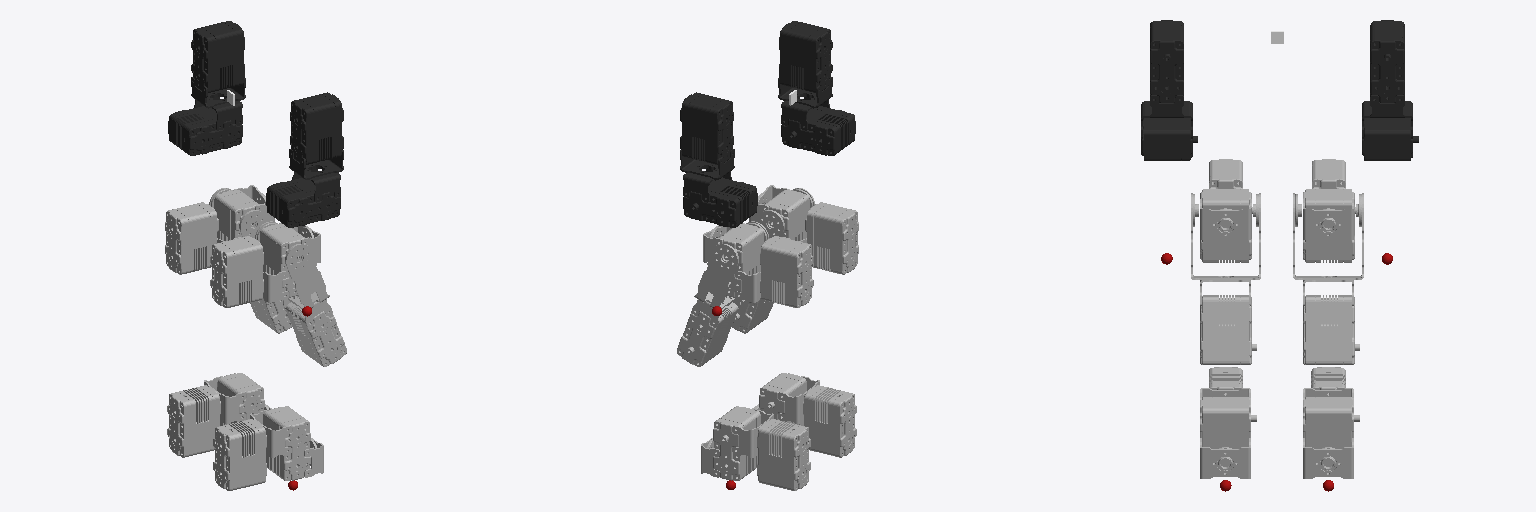
--- Facts derived from the render (not from the file) ---
The picture shows the robot from 3 angles, left to right: view 1: azimuth 30°, elevation 25°; view 2: azimuth 150°, elevation 25°; view 3: azimuth 270°, elevation 25°; orthographic projection.
Robot: lss_humanoid — 25 links, 24 joints (18 revolute, 6 fixed); root link base_link; default pose: all joints at 0.
Links seen in each view (by area): view 1: RHumerus, LHumerus, RFootPitch, RHipRoll, LFootPitch, LHipRoll, RHipPitch, LHipPitch; view 2: LHumerus, RHumerus, LFootPitch, LHipRoll, RFootPitch, RHipRoll, LHipPitch, RHipPitch; view 3: LHumerus, RHumerus, LFootPitch, RFootPitch, RHipRoll, LHipRoll, LHipPitch, RHipPitch.
Link boxes in pixels (left/top/right/bottom): RHumerus: left=266, top=92, right=343, bottom=227; LHumerus: left=168, top=21, right=245, bottom=155; RFootPitch: left=213, top=406, right=323, bottom=490; RHipRoll: left=210, top=223, right=320, bottom=307; LFootPitch: left=167, top=373, right=271, bottom=457; LHipRoll: left=165, top=185, right=274, bottom=274; RHipPitch: left=255, top=221, right=346, bottom=366; LHipPitch: left=209, top=188, right=291, bottom=333; LHumerus: left=680, top=92, right=757, bottom=227; RHumerus: left=778, top=21, right=855, bottom=155; LFootPitch: left=701, top=406, right=810, bottom=490; LHipRoll: left=703, top=223, right=813, bottom=307; RFootPitch: left=752, top=373, right=856, bottom=457; RHipRoll: left=749, top=185, right=858, bottom=274; LHipPitch: left=677, top=221, right=768, bottom=366; RHipPitch: left=732, top=188, right=814, bottom=333; LHumerus: left=1362, top=20, right=1418, bottom=160; RHumerus: left=1141, top=20, right=1197, bottom=160; LFootPitch: left=1303, top=367, right=1359, bottom=478; RFootPitch: left=1200, top=367, right=1256, bottom=478; RHipRoll: left=1200, top=159, right=1252, bottom=262; LHipRoll: left=1303, top=159, right=1355, bottom=262; LHipPitch: left=1293, top=193, right=1363, bottom=364; RHipPitch: left=1191, top=193, right=1260, bottom=364.
Size in the robot's own frame: 0.1148 by 0.2054 by 0.3748 metres.
12 mesh visuals loaded from 13 distinct referenced files (2 binary STL, 4 Collada DAE); not drawn: 12 (reference not matched to a file when rendering).

robot.urdf — lss_humanoid:
<?xml version="1.0" encoding="utf-8"?>
<!-- This URDF was automatically created by SolidWorks to URDF Exporter! Originally created by Stephen Brawner ([email redacted]) 
     Commit Version: 1.5.1-0-g916b5db  Build Version: 1.5.7152.31018
     For more information, please see http://wiki.ros.org/sw_urdf_exporter -->
<robot
  name="lss_humanoid">
  <material name="black">
    <color rgba="0.0 0.0 0.0 1.0"/>
  </material>
  <material name="dark">
    <color rgba="0.3 0.3 0.3 1.0"/>
  </material>
  <material name="light_black">
    <color rgba="0.4 0.4 0.4 1.0"/>
  </material>
  <material name="blue">
    <color rgba="0.0 0.0 0.8 1.0"/>
  </material>
  <material name="green">
    <color rgba="0.0 0.8 0.0 1.0"/>
  </material>
  <material name="grey">
    <color rgba="0.5 0.5 0.5 1.0"/>
  </material>
  <material name="orange">
    <color rgba="1.0 0.4235294117647059 0.0392156862745098 1.0"/>
  </material>
  <material name="brown">
    <color rgba="0.8705882352941177 0.8117647058823529 0.7647058823529411 1.0"/>
  </material>
  <material name="red">
    <color rgba="0.8 0.0 0.0 1.0"/>
  </material>
  <material name="white">
    <color rgba="1.0 1.0 1.0 1.0"/>
  </material>
  <material name="acrylic">
    <color rgba="0.9 0.9 1.0 0.6"/>
  </material>

  <gazebo reference="world">
    <static>true</static>
  </gazebo>
  <!-- Generic simulatalos_gazebo plugins -->
  <gazebo>
    <plugin filename="libgazebo_ros_control.so" name="gazebo_ros_control">
      <ns/>
      <robotSimType>pal_hardware_gazebo/PalHardwareGazebo</robotSimType>
      <robotNamespace/>
      <controlPeriod>0.001</controlPeriod>
    </plugin>
  </gazebo>
  <gazebo>
    <plugin filename="libgazebo_world_odometry.so" name="gazebo_ros_odometry">
      <frameName>base_link</frameName>
      <topicName>floating_base_pose_simulated</topicName>
    </plugin>
  </gazebo>
  <gazebo>
    <plugin filename="libgazebo_ros_force.so" name="gazebo_ros_force">
      <bodyName>base_link</bodyName>
      <topicName>wrench</topicName>
    </plugin>
  </gazebo>
  <gazebo reference="imu_link">
    <!-- this is expected to be reparented to pelvis with appropriate offset
         when imu_link is reduced by fixed joint reduction -->
    <!-- todo: this is working with gazebo 1.4, need to write a unit test -->
    <sensor name="imu_sensor" type="imu">
      <always_on>1</always_on>
      <update_rate>1000.0</update_rate>
      <imu>
        <noise>
          <type>gaussian</type>
          <!-- Noise parameters from Boston Dynamics
               (http://gazebosim.org/wiki/Sensor_noise):
                 rates (rad/s): mean=0, stddev=2e-4
                 accels (m/s/s): mean=0, stddev=1.7e-2
                 rate bias (rad/s): 5e-6 - 1e-5
                 accel bias (m/s/s): 1e-1
               Experimentally, simulation provide rates with noise of
               about 1e-3 rad/s and accels with noise of about 1e-1 m/s/s.
               So we don't expect to see the noise unless number of inner iterations
               are increased.

               We will add bias.  In this model, bias is sampled once for rates
               and once for accels at startup; the sign (negative or positive)
               of each bias is then switched with equal probability.  Thereafter,
               the biases are fixed additive offsets.  We choose
               bias means and stddevs to produce biases close to the provided
               data. -->
          <!--
          <rate>
            <mean>0.0</mean>
            <stddev>2e-4</stddev>
            <bias_mean>0.0000075</bias_mean>
            <bias_stddev>0.0000008</bias_stddev>
          </rate>
          <accel>
            <mean>0.0</mean>
            <stddev>1.7e-2</stddev>
            <bias_mean>0.1</bias_mean>
            <bias_stddev>0.001</bias_stddev>
          </accel>
          -->
          <rate>
            <mean>0.0</mean>
            <stddev>0.0</stddev>
            <bias_mean>0.000000</bias_mean>
            <bias_stddev>0.0000008</bias_stddev>
          </rate>
          <accel>
            <mean>0.0</mean>
            <stddev>0.0</stddev>
            <bias_mean>0.0</bias_mean>
            <bias_stddev>0.000</bias_stddev>
          </accel>
        </noise>
      </imu>
    </sensor>
  </gazebo>




<link
    name="base_link">
    <inertial>
      <origin
        xyz="-0.0253999999999986 2.13782985104544E-16 0.0359319126806752"
        rpy="0 0 0" />
      <mass
        value="0.355132365146695" />
      <inertia
        ixx="0.000832875964458555"
        ixy="3.33044333790096E-11"
        ixz="-1.16589850024818E-17"
        iyy="0.000564479251392148"
        iyz="1.60936259978317E-19"
        izz="0.000385496934446234" />
    </inertial>
    <visual>
      <origin
        xyz="0 0 0"
        rpy="0 0 0" />
      <geometry>
        <mesh
          filename="package://lss_humanoid/meshes/Torso.dae" />
      </geometry>
      <material
        name="">
        <color
          rgba="0.752941176470588 0.752941176470588 0.752941176470588 1" />
      </material>
    </visual>
    <collision>
      <origin
        xyz="0 0 0"
        rpy="0 0 0" />
      <geometry>
        <mesh
          filename="package://lss_humanoid/meshes/collision/Torso.STL" />
      </geometry>
    </collision>
  </link>

  <joint name="imu_link_joint" type="fixed">
    <parent link="base_link"/>
    <child link="imu_link"/>
    <origin
        xyz="-0.06 0 0.078"
        rpy="1.5708 0 1.5708"
    />
  </joint>
  <link name="imu_link">
    <visual>
      <origin rpy="0 0 0" xyz="0 0 0"/>
      <geometry>
        <box size="0.01 0.01 0.002"/>
      </geometry>
      <material name="white" />
    </visual>
    <inertial>
      <origin xyz="0 0 0"/>
      <mass value="0.04"/>
      <inertia ixx="3.467e-7" ixy="0.0" ixz="0.0" iyy="3.467e-7" iyz="0.0" izz="6.667e-7"/>
    </inertial>
  </link>

  <link
    name="Backpack">
    <inertial>
      <origin
        xyz="-0.0170427491100452 0.000328179885731391 0.01060821510892"
        rpy="0 0 0" />
      <mass
        value="0.0552011445334333" />
      <inertia
        ixx="4.62358741760883E-05"
        ixy="-2.88958813740679E-09"
        ixz="-8.28199354084925E-08"
        iyy="3.83480634869723E-05"
        iyz="-1.41570236441507E-07"
        izz="2.33835846232832E-05" />
    </inertial>
    <visual>
      <origin
        xyz="0 0 0"
        rpy="0 0 0" />
      <geometry>
        <mesh
          filename="package://lss_humanoid/meshes/Backpack.dae" />
      </geometry>
      <material
        name="">
        <color
          rgba="0.752941176470588 0.752941176470588 0.752941176470588 1" />
      </material>
    </visual>
    <collision>
      <origin
        xyz="0 0 0"
        rpy="0 0 0" />
      <geometry>
        <mesh
          filename="package://lss_humanoid/meshes/collision/Backpack.STL" />
      </geometry>
    </collision>
  </link>
  <joint
    name="BP"
    type="fixed">
    <origin
      xyz="-0.0523 0 0.0340500000000005"
      rpy="0 0 0" />
    <parent
      link="base_link" />
    <child
      link="Backpack" />
    <axis
      xyz="0 0 0" />
  </joint>


  <link
    name="LShoulder">
    <inertial>
      <origin
        xyz="0.000746218792416618 0.0150388262902873 -6.80011602582908E-16"
        rpy="0 0 0" />
      <mass
        value="0.017081530329231" />
      <inertia
        ixx="3.60326798545117E-06"
        ixy="-1.51189149729593E-07"
        ixz="-9.53045607523485E-17"
        iyy="8.06624443903878E-06"
        iyz="-9.57126791604929E-19"
        izz="1.01138323057886E-05" />
    </inertial>
    <visual>
      <origin
        xyz="0 0 0"
        rpy="0 0 0" />
      <geometry>
        <mesh
          filename="package://lss_humanoid/meshes/LShoulder.STL" />
      </geometry>
      <material
        name="">
        <color
          rgba="0.223529411764706 0.223529411764706 0.223529411764706 1" />
      </material>
    </visual>
    <collision>
      <origin
        xyz="0 0 0"
        rpy="0 0 0" />
      <geometry>
        <mesh
          filename="package://lss_humanoid/meshes/collision/LShoulder.STL" />
      </geometry>
    </collision>
  </link>
  <joint
    name="J27"
    type="revolute">
    <origin
      xyz="-0.0253999999999997 0.0547200000000002 0.0871500000000003"
      rpy="0 0 0" />
    <parent
      link="base_link" />
    <child
      link="LShoulder" />
    <axis
      xyz="0 1 0" />
    <limit
      lower="0"
      upper="0"
      effort="0"
      velocity="0" />
    <dynamics
      friction="9E-05" />
    <safety_controller
      soft_upper="3.14"
      soft_lower="-3.14"
      k_velocity="0" />
  </joint>
  <link
    name="LHumerus">
    <inertial>
      <origin
        xyz="-0.0286396595999023 3.72729039023467E-06 -0.0447778879789885"
        rpy="0 0 0" />
      <mass
        value="0.148517555792269" />
      <inertia
        ixx="0.000171303602077559"
        ixy="-9.0571913736578E-08"
        ixz="-2.65884022364843E-05"
        iyy="0.000187603674615906"
        iyz="1.73761555283781E-08"
        izz="4.23772443923829E-05" />
    </inertial>
    <visual>
      <origin
        xyz="0 0 0"
        rpy="0 0 0" />
      <geometry>
        <mesh
          filename="package://lss_humanoid/meshes/LHumerus.dae" />
      </geometry>
      <material
        name="">
        <color
          rgba="0.223529411764706 0.223529411764706 0.223529411764706 1" />
      </material>
    </visual>
    <collision>
      <origin
        xyz="0 0 0"
        rpy="0 0 0" />
      <geometry>
        <mesh
          filename="package://lss_humanoid/meshes/collision/LHumerus.STL" />
      </geometry>
    </collision>
  </link>
  <joint
    name="J28"
    type="revolute">
    <origin
      xyz="0.0231700999999997 0.0268999999999996 0"
      rpy="0 0 0" />
    <parent
      link="LShoulder" />
    <child
      link="LHumerus" />
    <axis
      xyz="-1 0 0" />
    <limit
      lower="0"
      upper="0"
      effort="0"
      velocity="0" />
    <dynamics
      friction="9E-05" />
    <safety_controller
      soft_upper="3.14"
      soft_lower="-3.14"
      k_velocity="0" />
  </joint>
  <link
    name="LRadius">
    <inertial>
      <origin
        xyz="-0.0163186126901819 -0.0227886840255948 -0.0408473173393355"
        rpy="0 0 0" />
      <mass
        value="0.0398910572348323" />
      <inertia
        ixx="5.48499757506847E-05"
        ixy="-2.02591239859563E-07"
        ixz="-6.59746659681478E-06"
        iyy="4.92537670421414E-05"
        iyz="-5.07108589855452E-07"
        izz="1.51066047591689E-05" />
    </inertial>
    <visual>
      <origin
        xyz="0 0 0"
        rpy="0 0 0" />
      <geometry>
        <mesh
          filename="package://lss_humanoid/meshes/LRadius.STL" />
      </geometry>
      <material
        name="">
        <color
          rgba="0.180392156862745 0.180392156862745 0.180392156862745 1" />
      </material>
    </visual>
    <collision>
      <origin
        xyz="0 0 0"
        rpy="0 0 0" />
      <geometry>
        <mesh
          filename="package://lss_humanoid/meshes/collision/LRadius.STL" />
      </geometry>
    </collision>
  </link>
  <joint
    name="J29"
    type="revolute">
    <origin
      xyz="-0.0229700000000004 0.0229699999999999 -0.0762000000000001"
      rpy="0 0 0" />
    <parent
      link="LHumerus" />
    <child
      link="LRadius" />
    <axis
      xyz="0 1 0" />
    <limit
      lower="0"
      upper="0"
      effort="0"
      velocity="0" />
    <dynamics
      friction="9E-05" />
    <safety_controller
      soft_upper="3.14"
      soft_lower="-3.14"
      k_velocity="0" />
  </joint>
  <link
    name="LWrist">
    <inertial>
      <origin
        xyz="-2.77555756156289E-17 0 -4.16333634234434E-17"
        rpy="0 0 0" />
      <mass
        value="0.000331321693867029" />
      <inertia
        ixx="2.44202838007185E-09"
        ixy="-1.46936793852786E-39"
        ixz="0"
        iyy="2.44202838007185E-09"
        iyz="-1.46936793852786E-39"
        izz="2.44202838007185E-09" />
    </inertial>
    <visual>
      <origin
        xyz="0 0 0"
        rpy="0 0 0" />
      <geometry>
        <mesh
          filename="package://lss_humanoid/meshes/Wrist.STL" />
      </geometry>
      <material
        name="">
        <color
          rgba="0.694117647058824 0.0980392156862745 0.0980392156862745 1" />
      </material>
    </visual>
    <collision>
      <origin
        xyz="0 0 0"
        rpy="0 0 0" />
      <geometry>
        <mesh
          filename="package://lss_humanoid/meshes/collision/Wrist.STL" />
      </geometry>
    </collision>
  </link>
  <joint
    name="LWristJoint"
    type="fixed">
    <origin
      xyz="-0.00914452409713376 -0.0230999 -0.101684168310308"
      rpy="0 0.77816112092486 0" />
    <parent
      link="LRadius" />
    <child
      link="LWrist" />
    <axis
      xyz="0 0 0" />
  </joint>


  <link
    name="LHipYaw">
    <inertial>
      <origin
        xyz="-0.00140553586679567 1.0547118733939E-15 -0.0150388262902854"
        rpy="0 0 0" />
      <mass
        value="0.017081530329231" />
      <inertia
        ixx="3.60326798545026E-06"
        ixy="-9.32394958494495E-17"
        ixz="-2.84771403204168E-07"
        iyy="1.06613780151401E-05"
        iyz="8.83408686287401E-19"
        izz="8.61379014839123E-06" />
    </inertial>
    <visual>
      <origin
        xyz="0 0 0"
        rpy="0 0 0" />
      <geometry>
        <mesh
          filename="package://lss_humanoid/meshes/LHipYaw.STL" />
      </geometry>
      <material
        name="">
        <color
          rgba="0.180392156862745 0.180392156862745 0.180392156862745 1" />
      </material>
    </visual>
    <collision>
      <origin
        xyz="0 0 0"
        rpy="0 0 0" />
      <geometry>
        <mesh
          filename="package://lss_humanoid/meshes/collision/LHipYaw.STL" />
      </geometry>
    </collision>
  </link>
  <joint
    name="J26"
    type="revolute">
    <origin
      xyz="-0.0254 0.0381000000000002 -0.0230574999999997"
      rpy="0 0 0" />
    <parent
      link="base_link" />
    <child
      link="LHipYaw" />
    <axis
      xyz="0 0 1" />
    <limit
      lower="0"
      upper="0"
      effort="0"
      velocity="0" />
    <dynamics
      friction="0.0009" />
    <safety_controller
      soft_upper="3.14"
      soft_lower="-3.14"
      k_velocity="0" />
  </joint>
  <link
    name="LHipRoll">
    <inertial>
      <origin
        xyz="0.0015643469642346 -9.4489704024002E-05 -0.0121804734613783"
        rpy="0 0 0" />
      <mass
        value="0.150600151982644" />
      <inertia
        ixx="4.54842403807621E-05"
        ixy="2.8199029992497E-07"
        ixz="-4.18228746201763E-06"
        iyy="0.000124412298932345"
        iyz="9.22435545928477E-08"
        izz="0.000107266776748049" />
    </inertial>
    <visual>
      <origin
        xyz="0 0 0"
        rpy="0 0 0" />
      <geometry>
        <mesh
          filename="package://lss_humanoid/meshes/LHipRoll.dae" />
      </geometry>
      <material
        name="">
        <color
          rgba="0.752941176470588 0.752941176470588 0.752941176470588 1" />
      </material>
    </visual>
    <collision>
      <origin
        xyz="0 0 0"
        rpy="0 0 0" />
      <geometry>
        <mesh
          filename="package://lss_humanoid/meshes/collision/LHipRoll.STL" />
      </geometry>
    </collision>
  </link>
  <joint
    name="J25"
    type="revolute">
    <origin
      xyz="-0.0275998999999983 0 -0.0268999999999996"
      rpy="0 0 0" />
    <parent
      link="LHipYaw" />
    <child
      link="LHipRoll" />
    <axis
      xyz="-1 0 0" />
    <limit
      lower="0"
      upper="0"
      effort="0"
      velocity="0" />
    <dynamics
      friction="9E-05" />
    <safety_controller
      soft_upper="3.14"
      soft_lower="-3.14"
      k_velocity="0" />
  </joint>
  <link
    name="LHipPitch">
    <inertial>
      <origin
        xyz="0.0255851859797108 0.0228146907775861 -0.0681478159345384"
        rpy="0 0 0" />
      <mass
        value="0.0939356992938116" />
      <inertia
        ixx="0.000105242343298208"
        ixy="-2.05783786718285E-07"
        ixz="3.0288628108755E-05"
        iyy="0.000101607381083384"
        iyz="5.4812380552749E-07"
        izz="3.59380441231357E-05" />
    </inertial>
    <visual>
      <origin
        xyz="0 0 0"
        rpy="0 0 0" />
      <geometry>
        <mesh
          filename="package://lss_humanoid/meshes/LHipPitch.dae" />
      </geometry>
      <material
        name="">
        <color
          rgba="0.752941176470588 0.752941176470588 0.752941176470588 1" />
      </material>
    </visual>
    <collision>
      <origin
        xyz="0 0 0"
        rpy="0 0 0" />
      <geometry>
        <mesh
          filename="package://lss_humanoid/meshes/collision/LHipPitch.STL" />
      </geometry>
    </collision>
  </link>
  <joint
    name="J24"
    type="revolute">
    <origin
      xyz="0.021379999999997 -0.023169999999998 0"
      rpy="0 0 0" />
    <parent
      link="LHipRoll" />
    <child
      link="LHipPitch" />
    <axis
      xyz="0 1 0" />
    <limit
      lower="0"
      upper="0"
      effort="0"
      velocity="0" />
    <dynamics
      friction="9E-05" />
    <safety_controller
      soft_upper="3.14"
      soft_lower="-3.14"
      k_velocity="0" />
  </joint>
  <link
    name="LKnee">
    <inertial>
      <origin
        xyz="-0.0212403418728807 0.0224343490617096 -0.0321915821405833"
        rpy="0 0 0" />
      <mass
        value="0.0373066388636915" />
      <inertia
        ixx="3.70320673266135E-05"
        ixy="-1.75016683128231E-07"
        ixz="-1.46783779745865E-05"
        iyy="3.7175997995424E-05"
        iyz="9.14956634172046E-08"
        izz="3.97968193655247E-05" />
    </inertial>
    <visual>
      <origin
        xyz="0 0 0"
        rpy="0 0 0" />
      <geometry>
        <mesh
          filename="package://lss_humanoid/meshes/LKnee.STL" />
      </geometry>
      <material
        name="">
        <color
          rgba="0.180392156862745 0.180392156862745 0.180392156862745 1" />
      </material>
    </visual>
    <collision>
      <origin
        xyz="0 0 0"
        rpy="0 0 0" />
      <geometry>
        <mesh
          filename="package://lss_humanoid/meshes/collision/LKnee.STL" />
      </geometry>
    </collision>
  </link>
  <joint
    name="J23"
    type="revolute">
    <origin
      xyz="0.03571055264156 -7.00999999968446E-05 -0.0951173823758538"
      rpy="0 -0.359153443220051 0" />
    <parent
      link="LHipPitch" />
    <child
      link="LKnee" />
    <axis
      xyz="0 1 0" />
    <limit
      lower="0"
      upper="0"
      effort="0"
      velocity="0" />
    <dynamics
      friction="9E-05" />
    <safety_controller
      soft_upper="3.14"
      soft_lower="-3.14"
      k_velocity="0" />
  </joint>
  <link
    name="LFootPitch">
    <inertial>
      <origin
        xyz="-0.0198156530357638 0.0230649413883882 -0.0128756238042894"
        rpy="0 0 0" />
      <mass
        value="0.150600151982644" />
      <inertia
        ixx="4.55202440974643E-05"
        ixy="3.47338553480333E-07"
        ixz="3.15598851556928E-06"
        iyy="0.000124448302022704"
        iyz="8.22067493012033E-08"
        izz="0.000107266777374408" />
    </inertial>
    <visual>
      <origin
        xyz="0 0 0"
        rpy="0 0 0" />
      <geometry>
        <mesh
          filename="package://lss_humanoid/meshes/LFootPitch.dae" />
      </geometry>
      <material
        name="">
        <color
          rgba="0.752941176470588 0.752941176470588 0.752941176470588 1" />
      </material>
    </visual>
    <collision>
      <origin
        xyz="0 0 0"
        rpy="0 0 0" />
      <geometry>
        <mesh
          filename="package://lss_humanoid/meshes/collision/LFootPitch.STL" />
      </geometry>
    </collision>
  </link>
  <joint
    name="J22"
    type="revolute">
    <origin
      xyz="-0.0565781810940433 0 -0.0570132390247182"
      rpy="0 0.359153443220065 0" />
    <parent
      link="LKnee" />
    <child
      link="LFootPitch" />
    <axis
      xyz="0 1 0" />
    <limit
      lower="0"
      upper="0"
      effort="0"
      velocity="0" />
    <dynamics
      friction="9E-05" />
    <safety_controller
      soft_upper="3.14"
      soft_lower="-3.14"
      k_velocity="0" />
  </joint>
  <link
    name="LFootRoll">
    <inertial>
      <origin
        xyz="0.0212117311316932 -8.43450072622598E-06 -0.0207257901081166"
        rpy="0 0 0" />
      <mass
        value="0.0486488335202237" />
      <inertia
        ixx="2.03946809529114E-05"
        ixy="-3.93611367093126E-10"
        ixz="-9.6720704817021E-07"
        iyy="4.93779735286004E-05"
        iyz="4.27085981976025E-09"
        izz="5.98725994039234E-05" />
    </inertial>
    <visual>
      <origin
        xyz="0 0 0"
        rpy="0 0 0" />
      <geometry>
        <mesh
          filename="package://lss_humanoid/meshes/LFootRoll.STL" />
      </geometry>
      <material
        name="">
        <color
          rgba="0.180392156862745 0.180392156862745 0.180392156862745 1" />
      </material>
    </visual>
    <collision>
      <origin
        xyz="0 0 0"
        rpy="0 0 0" />
      <geometry>
        <mesh
          filename="package://lss_humanoid/meshes/collision/LFootRoll.STL" />
      </geometry>
    </collision>
  </link>
  <joint
    name="J21"
    type="revolute">
    <origin
      xyz="-0.02138 0.02317 -0.0254"
      rpy="0 0 0" />
    <parent
      link="LFootPitch" />
    <child
      link="LFootRoll" />
    <axis
      xyz="-1 0 0" />
    <limit
      lower="0"
      upper="0"
      effort="0"
      velocity="0" />
    <dynamics
      friction="9E-05" />
    <safety_controller
      soft_upper="3.14"
      soft_lower="-3.14"
      k_velocity="0" />
  </joint>
  <link
    name="l_sole">
    <inertial>
      <origin
        xyz="0 0 -5.55111512312578E-17"
        rpy="0 0 0" />
      <mass
        value="0.000331321693867029" />
      <inertia
        ixx="2.44202838007185E-09"
        ixy="3.67341984631965E-40"
        ixz="-2.31798496307566E-38"
        iyy="2.44202838007185E-09"
        iyz="1.46936793852786E-39"
        izz="2.44202838007185E-09" />
    </inertial>
    <visual>
      <origin
        xyz="0 0 0"
        rpy="0 0 0" />
      <geometry>
        <mesh
          filename="package://lss_humanoid/meshes/LSole.STL" />
      </geometry>
      <material
        name="">
        <color
          rgba="0.694117647058824 0.0980392156862745 0.0980392156862745 1" />
      </material>
    </visual>
    <collision>
      <origin
        xyz="0 0 0"
        rpy="0 0 0" />
      <geometry>
        <mesh
          filename="package://lss_humanoid/meshes/collision/LSole.STL" />
      </geometry>
    </collision>
  </link>
  <joint
    name="LSoleJoint"
    type="fixed">
    <origin
      xyz="0.0275999000000001 -1.09569033354961E-05 -0.0269239977705071"
      rpy="0 0 0" />
    <parent
      link="LFootRoll" />
    <child
      link="l_sole" />
    <axis
      xyz="0 1 0" />
  </joint>




  <link
    name="RShoulder">
    <inertial>
      <origin
        xyz="0.000746218792416618 0.0150388262902873 -6.80011602582908E-16"
        rpy="0 0 0" />
      <mass
        value="0.017081530329231" />
      <inertia
        ixx="3.60326798545117E-06"
        ixy="-1.51189149729593E-07"
        ixz="-9.53045607523485E-17"
        iyy="8.06624443903878E-06"
        iyz="-9.57126791604929E-19"
        izz="1.01138323057886E-05" />
    </inertial>
    <visual>
      <origin
        xyz="0 0 0"
        rpy="0 0 0" />
      <geometry>
        <mesh
          filename="package://lss_humanoid/meshes/LShoulder.STL" />
      </geometry>
      <material
        name="">
        <color
          rgba="0.223529411764706 0.223529411764706 0.223529411764706 1" />
      </material>
    </visual>
    <collision>
      <origin
        xyz="0 0 0"
        rpy="0 0 0" />
      <geometry>
        <mesh
          filename="package://lss_humanoid/meshes/collision/LShoulder.STL" />
      </geometry>
    </collision>
  </link>
  <joint
    name="J17"
    type="revolute">
    <origin
      xyz="-0.0253999999999997 -0.0547200000000002 0.0871500000000003"
      rpy="-3.1416 0 0" />
    <parent
      link="base_link" />
    <child
      link="RShoulder" />
    <axis
      xyz="0 -1 0" />
    <limit
      lower="0"
      upper="0"
      effort="0"
      velocity="0" />
    <dynamics
      friction="9E-05" />
    <safety_controller
      soft_upper="3.14"
      soft_lower="-3.14"
      k_velocity="0" />
  </joint>
  <link
    name="RHumerus">
    <inertial>
      <origin
        xyz="-0.0286396595999023 3.72729039023467E-06 -0.0447778879789885"
        rpy="0 0 0" />
      <mass
        value="0.148517555792269" />
      <inertia
        ixx="0.000171303602077559"
        ixy="-9.0571913736578E-08"
        ixz="-2.65884022364843E-05"
        iyy="0.000187603674615906"
        iyz="1.73761555283781E-08"
        izz="4.23772443923829E-05" />
    </inertial>
    <visual>
      <origin
        xyz="0 0 0"
        rpy="0 0 0" />
      <geometry>
        <mesh
          filename="package://lss_humanoid/meshes/LHumerus.dae" />
      </geometry>
      <material
        name="">
        <color
          rgba="0.223529411764706 0.223529411764706 0.223529411764706 1" />
      </material>
    </visual>
    <collision>
      <origin
        xyz="0 0 0"
        rpy="0 0 0" />
      <geometry>
        <mesh
          filename="package://lss_humanoid/meshes/collision/LHumerus.STL" />
      </geometry>
    </collision>
  </link>
  <joint
    name="J18"
    type="revolute">
    <origin
      xyz="0.0231700999999997 0.0268999999999996 0"
      rpy="3.14156 0 0" />
    <parent
      link="RShoulder" />
    <child
      link="RHumerus" />
    <axis
      xyz="1 0 0" />
    <limit
      lower="0"
      upper="0"
      effort="0"
      velocity="0" />
    <dynamics
      friction="9E-05" />
    <safety_controller
      soft_upper="3.14"
      soft_lower="-3.14"
      k_velocity="0" />
  </joint>
  <link
    name="RRadius">
    <inertial>
      <origin
        xyz="-0.0163186126901819 -0.0227886840255948 -0.0408473173393355"
        rpy="0 0 0" />
      <mass
        value="0.0398910572348323" />
      <inertia
        ixx="5.48499757506847E-05"
        ixy="-2.02591239859563E-07"
        ixz="-6.59746659681478E-06"
        iyy="4.92537670421414E-05"
        iyz="-5.07108589855452E-07"
        izz="1.51066047591689E-05" />
    </inertial>
    <visual>
      <origin
        xyz="0 0 0"
        rpy="0 0 0" />
      <geometry>
        <mesh
          filename="package://lss_humanoid/meshes/LRadius.STL" />
      </geometry>
      <material
        name="">
        <color
          rgba="0.180392156862745 0.180392156862745 0.180392156862745 1" />
      </material>
    </visual>
    <collision>
      <origin
        xyz="0 0 0"
        rpy="0 0 0" />
      <geometry>
        <mesh
          filename="package://lss_humanoid/meshes/collision/LRadius.STL" />
      </geometry>
    </collision>
  </link>
  <joint
    name="J19"
    type="revolute">
    <origin
      xyz="-0.0229700000000004 0.0229699999999999 -0.0762000000000001"
      rpy="0 0 0" />
    <parent
      link="RHumerus" />
    <child
      link="RRadius" />
    <axis
      xyz="0 1 0" />
    <limit
      lower="0"
      upper="0"
      effort="0"
      velocity="0" />
    <dynamics
      friction="9E-05" />
    <safety_controller
      soft_upper="3.14"
      soft_lower="-3.14"
      k_velocity="0" />
  </joint>
  <link
    name="RWrist">
    <inertial>
      <origin
        xyz="-2.77555756156289E-17 0 -4.16333634234434E-17"
        rpy="0 0 0" />
      <mass
        value="0.000331321693867029" />
      <inertia
        ixx="2.44202838007185E-09"
        ixy="-1.46936793852786E-39"
        ixz="0"
        iyy="2.44202838007185E-09"
        iyz="-1.46936793852786E-39"
        izz="2.44202838007185E-09" />
    </inertial>
    <visual>
      <origin
        xyz="0 0 0"
        rpy="0 0 0" />
      <geometry>
        <mesh
          filename="package://lss_humanoid/meshes/Wrist.STL" />
      </geometry>
      <material
        name="">
        <color
          rgba="0.694117647058824 0.0980392156862745 0.0980392156862745 1" />
      </material>
    </visual>
    <collision>
      <origin
        xyz="0 0 0"
        rpy="0 0 0" />
      <geometry>
        <mesh
          filename="package://lss_humanoid/meshes/collision/Wrist.STL" />
      </geometry>
    </collision>
  </link>
  <joint
    name="RWristJoint"
    type="fixed">
    <origin
      xyz="-0.00914452409713376 -0.0230999 -0.101684168310308"
      rpy="0 0.77816112092486 0" />
    <parent
      link="RRadius" />
    <child
      link="RWrist" />
    <axis
      xyz="0 0 0" />
  </joint>


  <link
    name="RHipYaw">
    <inertial>
      <origin
        xyz="-0.00140553586679567 1.0547118733939E-15 -0.0150388262902854"
        rpy="0 0 0" />
      <mass
        value="0.017081530329231" />
      <inertia
        ixx="3.60326798545026E-06"
        ixy="-9.32394958494495E-17"
        ixz="-2.84771403204168E-07"
        iyy="1.06613780151401E-05"
        iyz="8.83408686287401E-19"
        izz="8.61379014839123E-06" />
    </inertial>
    <visual>
      <origin
        xyz="0 0 0"
        rpy="0 0 0" />
      <geometry>
        <mesh
          filename="package://lss_humanoid/meshes/LHipYaw.STL" />
      </geometry>
      <material
        name="">
        <color
          rgba="0.180392156862745 0.180392156862745 0.180392156862745 1" />
      </material>
    </visual>
    <collision>
      <origin
        xyz="0 0 0"
        rpy="0 0 0" />
      <geometry>
        <mesh
          filename="package://lss_humanoid/meshes/collision/LHipYaw.STL" />
      </geometry>
    </collision>
  </link>
  <joint
    name="J16"
    type="revolute">
    <origin
      xyz="-0.0254 -0.0381000000000002 -0.0230574999999997"
      rpy="0 0 0" />
    <parent
      link="base_link" />
    <child
      link="RHipYaw" />
    <axis
      xyz="0 0 -1" />
    <limit
      lower="0"
      upper="0"
      effort="0"
      velocity="0" />
    <dynamics
      friction="0.0009" />
    <safety_controller
      soft_upper="3.14"
      soft_lower="-3.14"
      k_velocity="0" />
  </joint>
  <link
    name="RHipRoll">
    <inertial>
      <origin
        xyz="0.0015643469642346 -9.4489704024002E-05 -0.0121804734613783"
        rpy="0 0 0" />
      <mass
        value="0.150600151982644" />
      <inertia
        ixx="4.54842403807621E-05"
        ixy="2.8199029992497E-07"
        ixz="-4.18228746201763E-06"
        iyy="0.000124412298932345"
        iyz="9.22435545928477E-08"
        izz="0.000107266776748049" />
    </inertial>
    <visual>
      <origin
        xyz="0 0 0"
        rpy="0 0 0" />
      <geometry>
        <mesh
          filename="package://lss_humanoid/meshes/LHipRoll.dae" />
      </geometry>
      <material
        name="">
        <color
          rgba="0.752941176470588 0.752941176470588 0.752941176470588 1" />
      </material>
    </visual>
    <collision>
      <origin
        xyz="0 0 0"
        rpy="0 0 0" />
      <geometry>
        <mesh
          filename="package://lss_humanoid/meshes/collision/LHipRoll.STL" />
      </geometry>
    </collision>
  </link>
  <joint
    name="J15"
    type="revolute">
    <origin
      xyz="-0.0275998999999983 0 -0.0268999999999996"
      rpy="0 0 0" />
    <parent
      link="RHipYaw" />
    <child
      link="RHipRoll" />
    <axis
      xyz="-1 0 0" />
    <limit
      lower="0"
      upper="0"
      effort="0"
      velocity="0" />
    <dynamics
      friction="9E-05" />
    <safety_controller
      soft_upper="3.14"
      soft_lower="-3.14"
      k_velocity="0" />
  </joint>
  <link
    name="RHipPitch">
    <inertial>
      <origin
        xyz="0.0255851859797108 0.0228146907775861 -0.0681478159345384"
        rpy="0 0 0" />
      <mass
        value="0.0939356992938116" />
      <inertia
        ixx="0.000105242343298208"
        ixy="-2.05783786718285E-07"
        ixz="3.0288628108755E-05"
        iyy="0.000101607381083384"
        iyz="5.4812380552749E-07"
        izz="3.59380441231357E-05" />
    </inertial>
    <visual>
      <origin
        xyz="0 0 0"
        rpy="0 0 0" />
      <geometry>
        <mesh
          filename="package://lss_humanoid/meshes/LHipPitch.dae" />
      </geometry>
      <material
        name="">
        <color
          rgba="0.752941176470588 0.752941176470588 0.752941176470588 1" />
      </material>
    </visual>
    <collision>
      <origin
        xyz="0 0 0"
        rpy="0 0 0" />
      <geometry>
        <mesh
          filename="package://lss_humanoid/meshes/collision/LHipPitch.STL" />
      </geometry>
    </collision>
  </link>
  <joint
    name="J14"
    type="revolute">
    <origin
      xyz="0.021379999999997 -0.023169999999998 0"
      rpy="0 0 0" />
    <parent
      link="RHipRoll" />
    <child
      link="RHipPitch" />
    <axis
      xyz="0 1 0" />
    <limit
      lower="0"
      upper="0"
      effort="0"
      velocity="0" />
    <dynamics
      friction="9E-05" />
    <safety_controller
      soft_upper="3.14"
      soft_lower="-3.14"
      k_velocity="0" />
  </joint>
  <link
    name="RKnee">
    <inertial>
      <origin
        xyz="-0.0212403418728807 0.0224343490617096 -0.0321915821405833"
        rpy="0 0 0" />
      <mass
        value="0.0373066388636915" />
      <inertia
        ixx="3.70320673266135E-05"
        ixy="-1.75016683128231E-07"
        ixz="-1.46783779745865E-05"
        iyy="3.7175997995424E-05"
        iyz="9.14956634172046E-08"
        izz="3.97968193655247E-05" />
    </inertial>
    <visual>
      <origin
        xyz="0 0 0"
        rpy="0 0 0" />
      <geometry>
        <mesh
          filename="package://lss_humanoid/meshes/LKnee.STL" />
      </geometry>
      <material
        name="">
        <color
          rgba="0.180392156862745 0.180392156862745 0.180392156862745 1" />
      </material>
    </visual>
    <collision>
      <origin
        xyz="0 0 0"
        rpy="0 0 0" />
      <geometry>
        <mesh
          filename="package://lss_humanoid/meshes/collision/LKnee.STL" />
      </geometry>
    </collision>
  </link>
  <joint
    name="J13"
    type="revolute">
    <origin
      xyz="0.03571055264156 -7.00999999968446E-05 -0.0951173823758538"
      rpy="0 -0.359153443220051 0" />
    <parent
      link="RHipPitch" />
    <child
      link="RKnee" />
    <axis
      xyz="0 1 0" />
    <limit
      lower="0"
      upper="0"
      effort="0"
      velocity="0" />
    <dynamics
      friction="9E-05" />
    <safety_controller
      soft_upper="3.14"
      soft_lower="-3.14"
      k_velocity="0" />
  </joint>
  <link
    name="RFootPitch">
    <inertial>
      <origin
        xyz="-0.0198156530357638 0.0230649413883882 -0.0128756238042894"
        rpy="0 0 0" />
      <mass
        value="0.150600151982644" />
      <inertia
        ixx="4.55202440974643E-05"
        ixy="3.47338553480333E-07"
        ixz="3.15598851556928E-06"
        iyy="0.000124448302022704"
        iyz="8.22067493012033E-08"
        izz="0.000107266777374408" />
    </inertial>
    <visual>
      <origin
        xyz="0 0 0"
        rpy="0 0 0" />
      <geometry>
        <mesh
          filename="package://lss_humanoid/meshes/LFootPitch.dae" />
      </geometry>
      <material
        name="">
        <color
          rgba="0.752941176470588 0.752941176470588 0.752941176470588 1" />
      </material>
    </visual>
    <collision>
      <origin
        xyz="0 0 0"
        rpy="0 0 0" />
      <geometry>
        <mesh
          filename="package://lss_humanoid/meshes/collision/LFootPitch.STL" />
      </geometry>
    </collision>
  </link>
  <joint
    name="J12"
    type="revolute">
    <origin
      xyz="-0.0565781810940433 0 -0.0570132390247182"
      rpy="0 0.359153443220065 0" />
    <parent
      link="RKnee" />
    <child
      link="RFootPitch" />
    <axis
      xyz="0 1 0" />
    <limit
      lower="0"
      upper="0"
      effort="0"
      velocity="0" />
    <dynamics
      friction="9E-05" />
    <safety_controller
      soft_upper="3.14"
      soft_lower="-3.14"
      k_velocity="0" />
  </joint>
  <link
    name="RFootRoll">
    <inertial>
      <origin
        xyz="0.0212117311316932 -8.43450072622598E-06 -0.0207257901081166"
        rpy="0 0 0" />
      <mass
        value="0.0486488335202237" />
      <inertia
        ixx="2.03946809529114E-05"
        ixy="-3.93611367093126E-10"
        ixz="-9.6720704817021E-07"
        iyy="4.93779735286004E-05"
        iyz="4.27085981976025E-09"
        izz="5.98725994039234E-05" />
    </inertial>
    <visual>
      <origin
        xyz="0 0 0"
        rpy="0 0 0" />
      <geometry>
        <mesh
          filename="package://lss_humanoid/meshes/LFootRoll.STL" />
      </geometry>
      <material
        name="">
        <color
          rgba="0.180392156862745 0.180392156862745 0.180392156862745 1" />
      </material>
    </visual>
    <collision>
      <origin
        xyz="0 0 0"
        rpy="0 0 0" />
      <geometry>
        <mesh
          filename="package://lss_humanoid/meshes/collision/LFootRoll.STL" />
      </geometry>
    </collision>
  </link>
  <joint
    name="J11"
    type="revolute">
    <origin
      xyz="-0.02138 0.02317 -0.0254"
      rpy="0 0 0" />
    <parent
      link="RFootPitch" />
    <child
      link="RFootRoll" />
    <axis
      xyz="-1 0 0" />
    <limit
      lower="0"
      upper="0"
      effort="0"
      velocity="0" />
    <dynamics
      friction="9E-05" />
    <safety_controller
      soft_upper="3.14"
      soft_lower="-3.14"
      k_velocity="0" />
  </joint>
  <link
    name="r_sole">
    <inertial>
      <origin
        xyz="0 0 -5.55111512312578E-17"
        rpy="0 0 0" />
      <mass
        value="0.000331321693867029" />
      <inertia
        ixx="2.44202838007185E-09"
        ixy="3.67341984631965E-40"
        ixz="-2.31798496307566E-38"
        iyy="2.44202838007185E-09"
        iyz="1.46936793852786E-39"
        izz="2.44202838007185E-09" />
    </inertial>
    <visual>
      <origin
        xyz="0 0 0"
        rpy="0 0 0" />
      <geometry>
        <mesh
          filename="package://lss_humanoid/meshes/LSole.STL" />
      </geometry>
      <material
        name="">
        <color
          rgba="0.694117647058824 0.0980392156862745 0.0980392156862745 1" />
      </material>
    </visual>
    <collision>
      <origin
        xyz="0 0 0"
        rpy="0 0 0" />
      <geometry>
        <mesh
          filename="package://lss_humanoid/meshes/collision/LSole.STL" />
      </geometry>
    </collision>
  </link>
  <joint
    name="RSoleJoint"
    type="fixed">
    <origin
      xyz="0.0275999000000001 -1.09569033354961E-05 -0.0269239977705071"
      rpy="0 0 0" />
    <parent
      link="RFootRoll" />
    <child
      link="r_sole" />
    <axis
      xyz="0 1 0" />
  </joint>



</robot>
